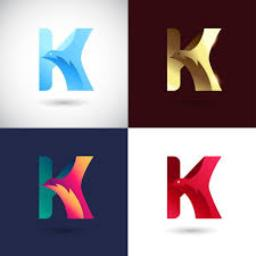k: (32, 22, 104, 96)
